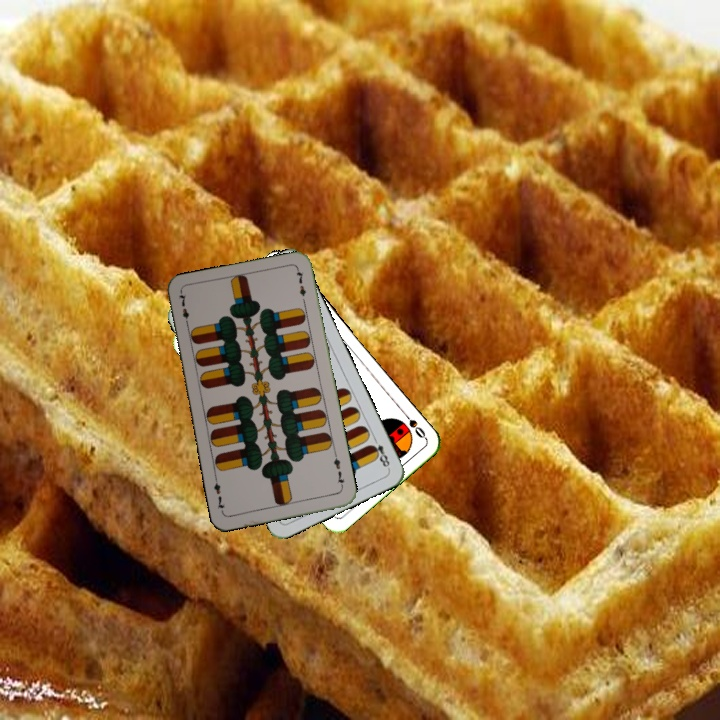E7: (329, 451, 347, 491), (175, 289, 192, 329)
E8: (366, 433, 392, 471)
SO: (398, 407, 429, 441)
